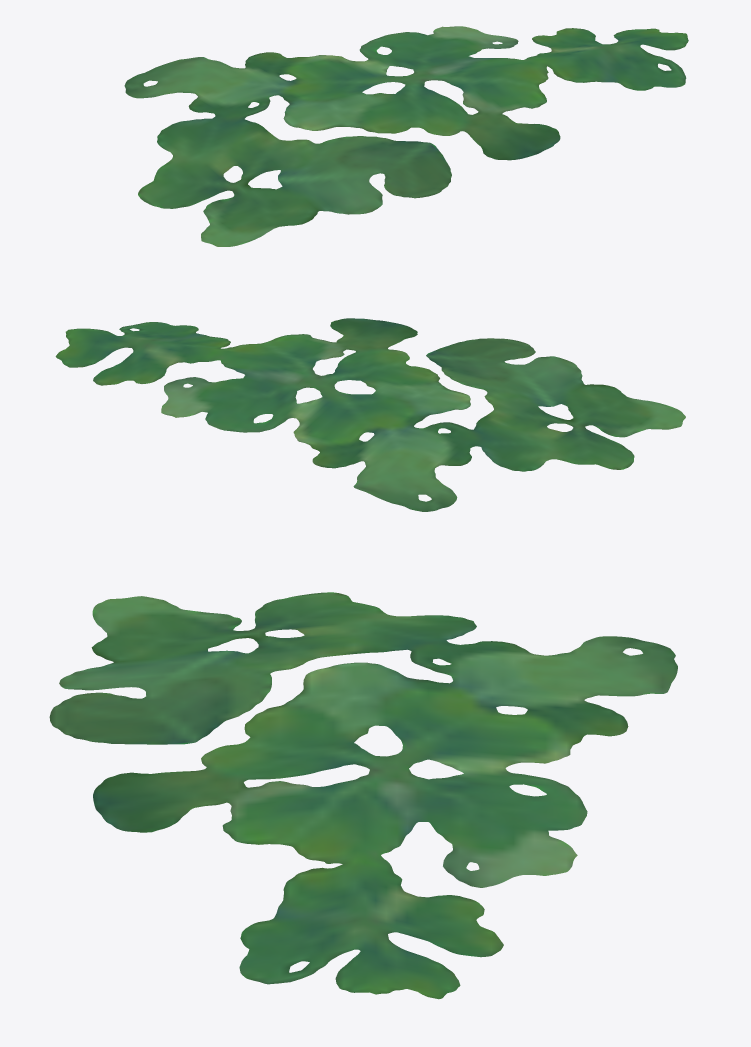
File: SM_Ground_Clover_D.fbx
3 views of the same model, one above another, from view 1: azimuth 30°, elevation 25°; view 2: azimuth 150°, elevation 25°; view 3: azimuth 270°, elevation 25° (orthographic). The views are drawn at different scales.
Parts seen in each view (by area): view 1: SM_Ground_Clover_D; view 2: SM_Ground_Clover_D; view 3: SM_Ground_Clover_D.
Part boxes in pixels (x1,y1,x2,y2): SM_Ground_Clover_D: [124, 26, 688, 246]; SM_Ground_Clover_D: [55, 318, 685, 511]; SM_Ground_Clover_D: [49, 592, 677, 999].
Size of the model in its own units: 31.34 by 20.92 by 1.84.
Materials: 1 (1 with a texture image).
